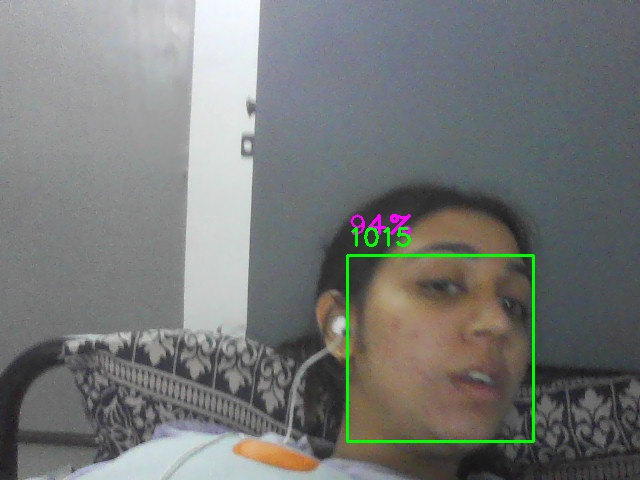real: (347, 255, 534, 442)
